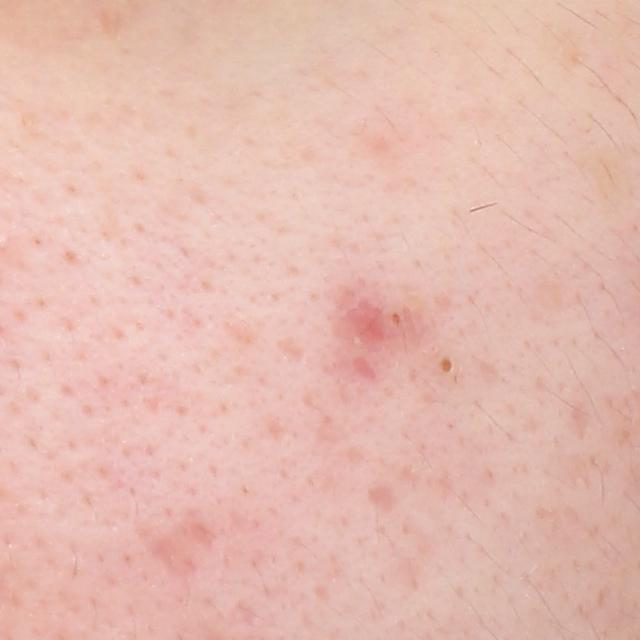atrophic_scar: (138, 507, 222, 582), (224, 598, 260, 626), (277, 336, 311, 365), (349, 355, 378, 382), (367, 485, 395, 511), (573, 400, 591, 438)
comedo: (432, 351, 468, 383)
